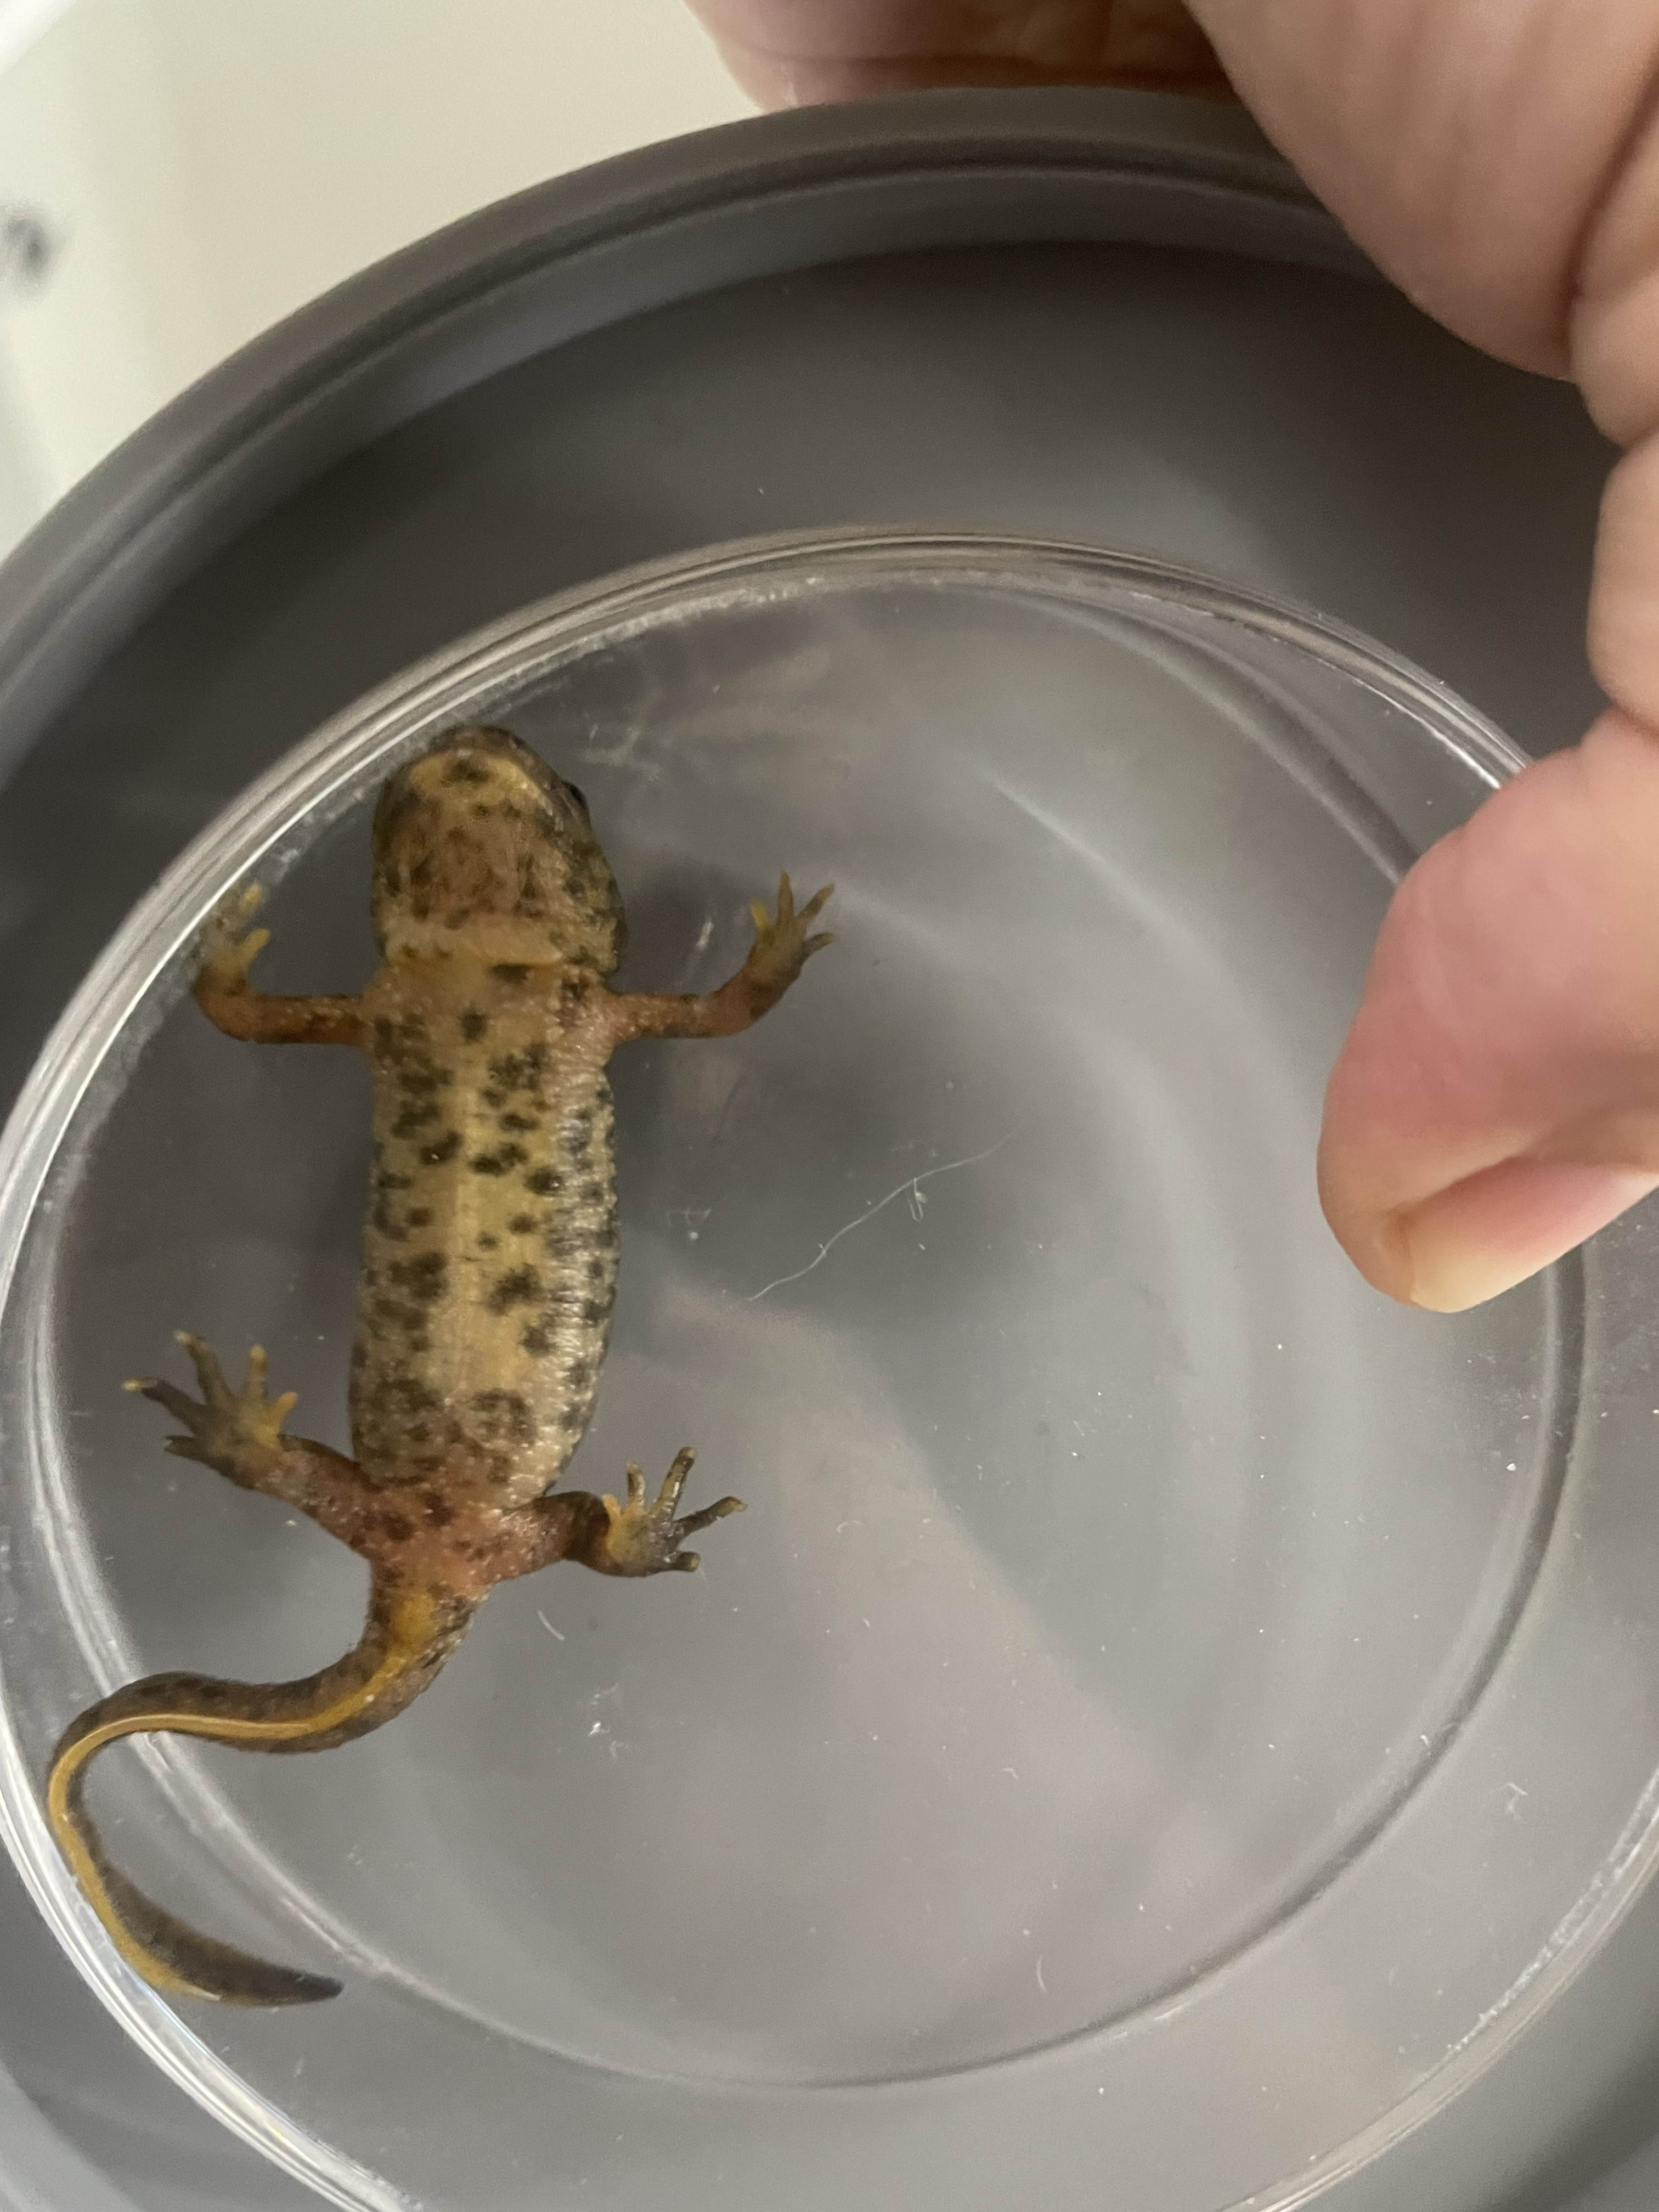newt_ribbed: (351, 1042, 619, 1500)
